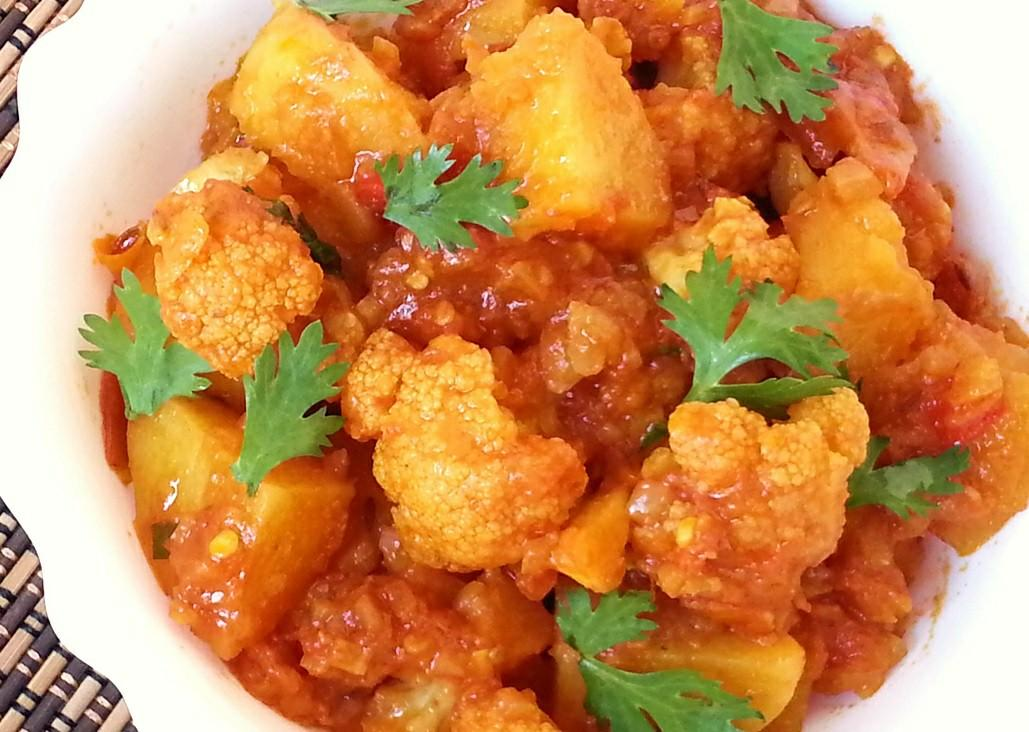AlooGobi: (81, 2, 1029, 732)
